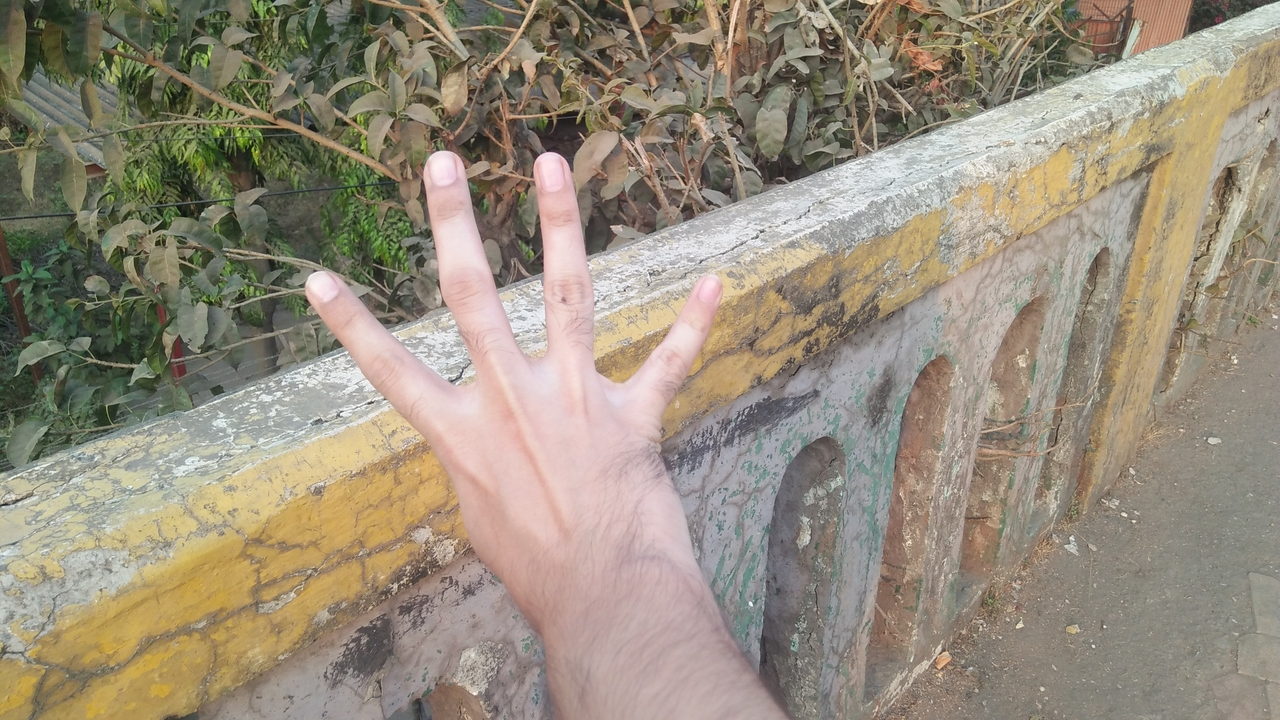fingertip: (410, 142, 470, 202), (294, 262, 352, 318), (676, 262, 734, 318), (524, 144, 576, 200)
